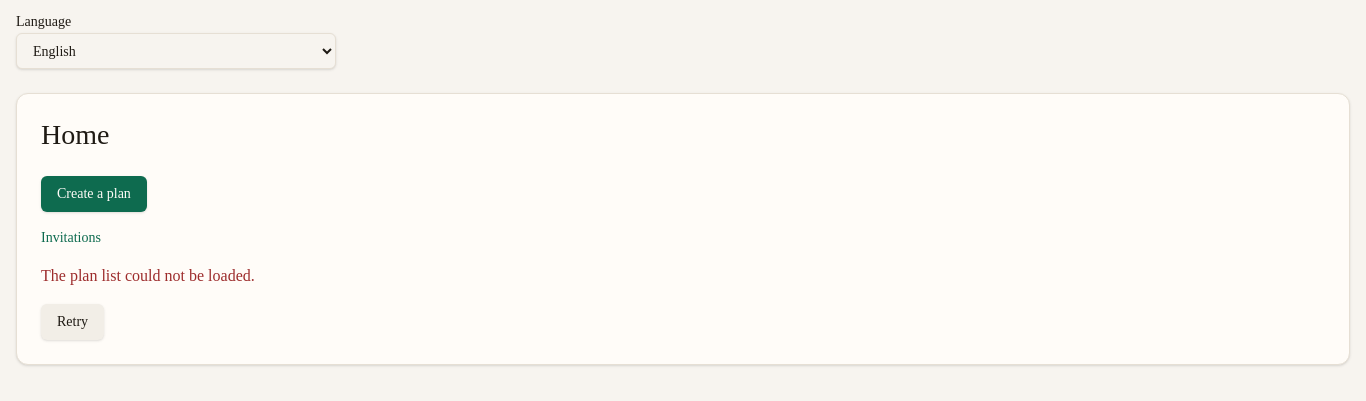
Test: HomeList › T-001-45/AC-5 initial data that does not parse shows the home error with a retry that refetches
expect the message reads "The plan list could not be loaded.": met, box [41, 267, 255, 284]
Click the button "Retry" at {"x": 73, "y": 322}, box [41, 304, 104, 340]
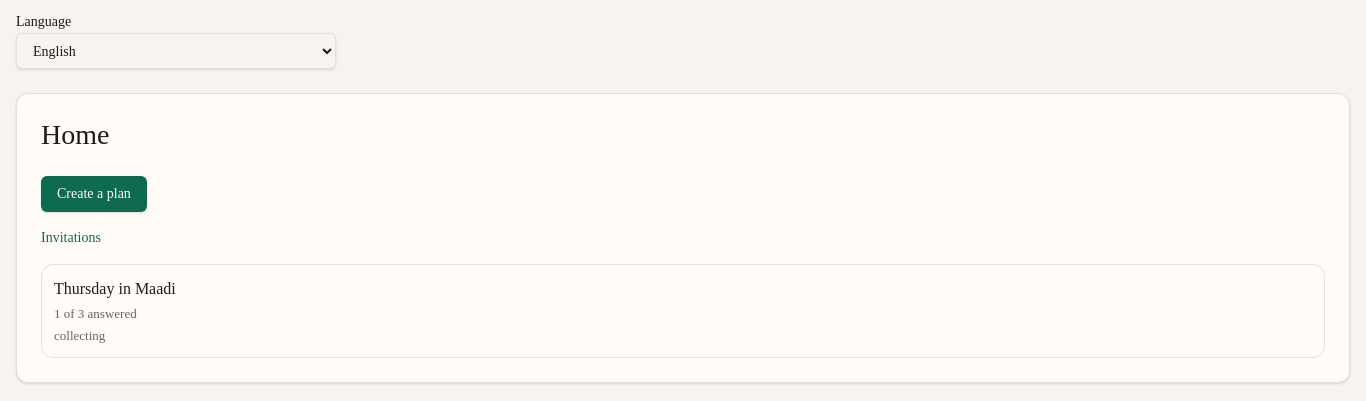
expect the text "Thursday in Maadi" is shown: met, box [54, 280, 176, 297]
expect the message "The plan list could not be loaded." is gone: met
